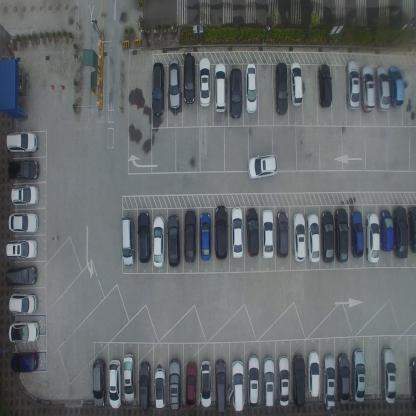car: (380, 346, 397, 404), (392, 204, 408, 261), (248, 152, 278, 181), (165, 213, 180, 269), (321, 354, 336, 409), (5, 129, 38, 154), (5, 263, 38, 288), (291, 354, 306, 408), (228, 66, 243, 120), (320, 210, 335, 263), (183, 209, 197, 265), (213, 358, 227, 414), (334, 207, 348, 263), (108, 358, 123, 410), (135, 211, 149, 266), (214, 205, 228, 260), (352, 348, 366, 403), (182, 51, 196, 106), (151, 61, 165, 116), (7, 158, 40, 181), (274, 62, 288, 116), (168, 357, 182, 411), (374, 65, 390, 112), (359, 63, 374, 113), (231, 359, 245, 412), (316, 63, 332, 109), (8, 321, 40, 344), (246, 354, 260, 406), (366, 212, 380, 264), (345, 59, 359, 111), (92, 357, 106, 409), (9, 291, 38, 316), (151, 215, 164, 270), (198, 212, 212, 263), (120, 217, 134, 268), (246, 207, 260, 258), (8, 211, 39, 234), (388, 64, 404, 108), (6, 238, 38, 260), (10, 349, 39, 373), (337, 352, 350, 405), (350, 210, 364, 259), (230, 207, 243, 259), (262, 356, 275, 408), (307, 211, 320, 263), (293, 212, 306, 264), (168, 58, 181, 110), (122, 353, 135, 404), (199, 360, 212, 410), (138, 361, 151, 411), (289, 61, 303, 107), (307, 348, 320, 397), (245, 62, 257, 115), (277, 354, 289, 406), (276, 210, 289, 258), (214, 61, 226, 113), (199, 56, 211, 108), (10, 185, 39, 206), (185, 360, 197, 410), (379, 208, 393, 250), (262, 209, 273, 259), (154, 368, 166, 409), (408, 206, 416, 254), (410, 355, 415, 409)
